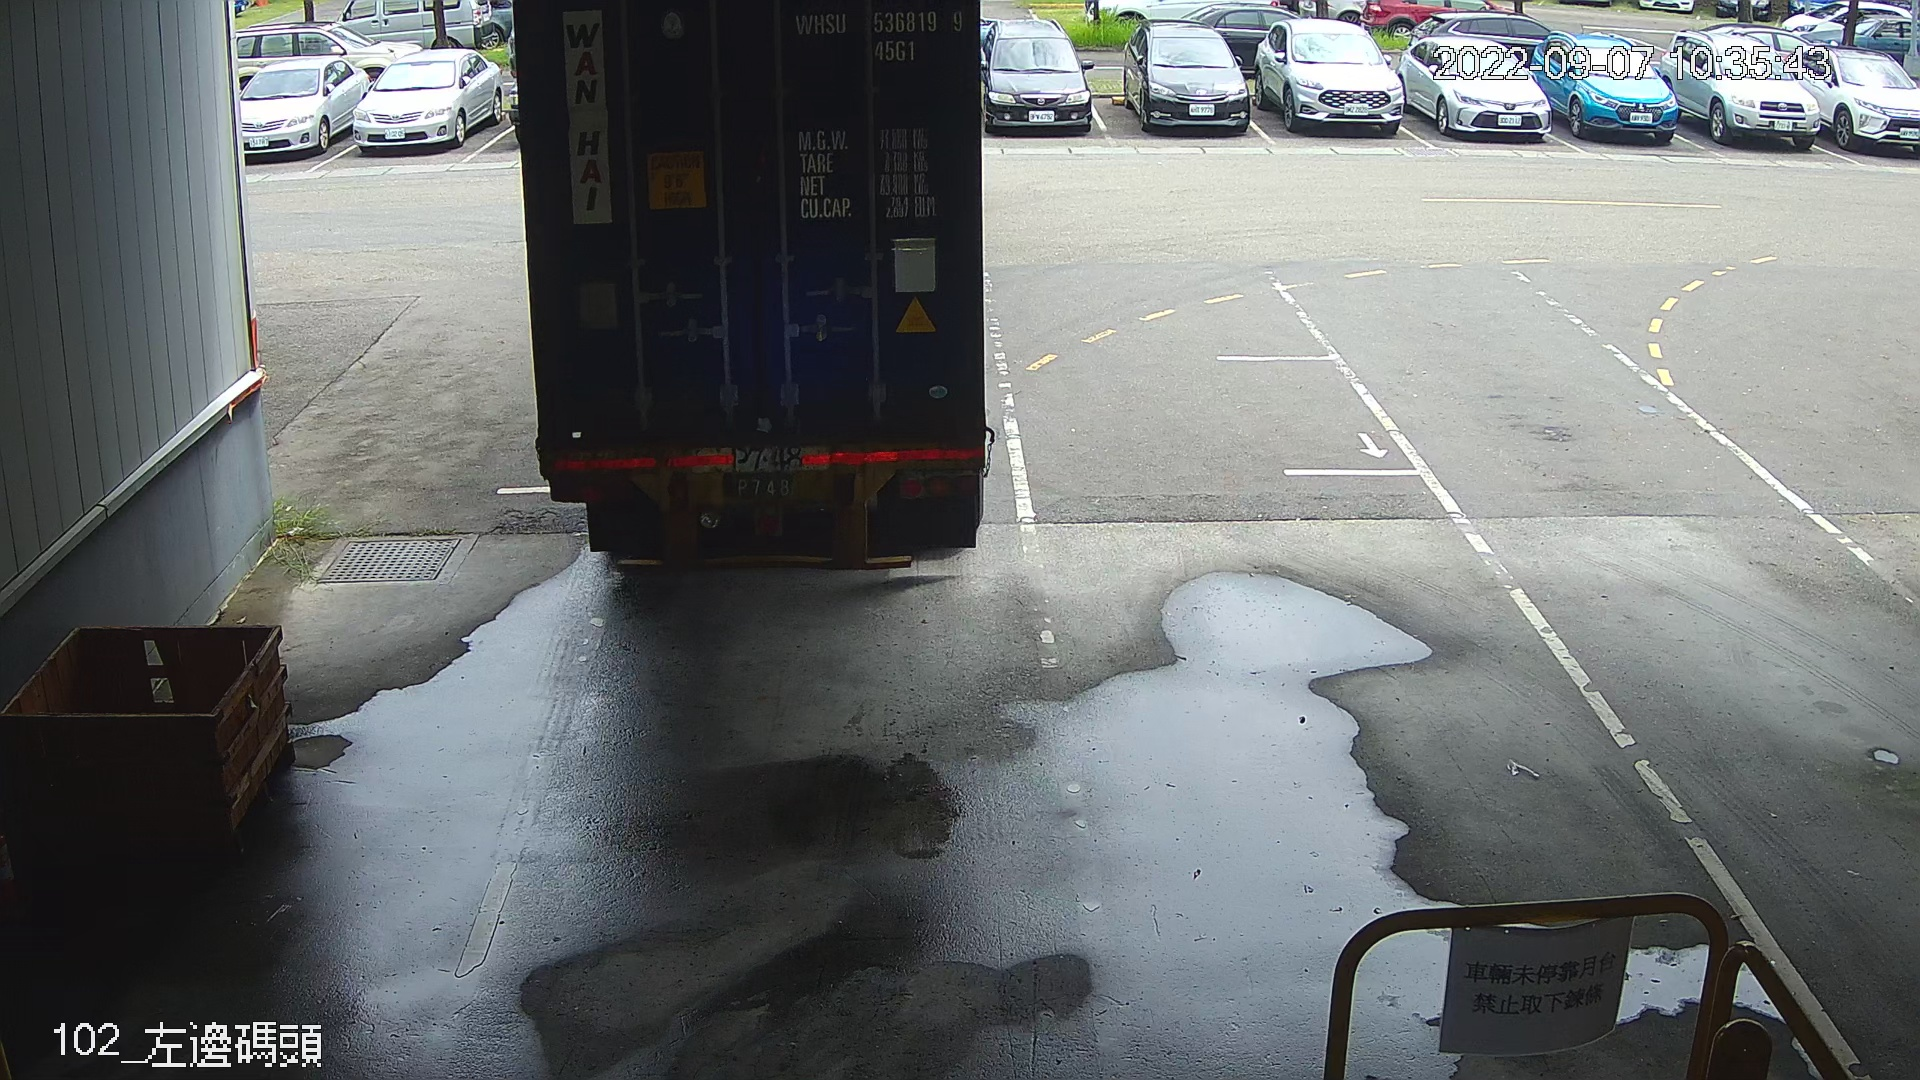container: (789, 5, 971, 69)
